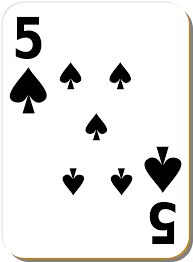five of clubs: (6, 6, 193, 260)
